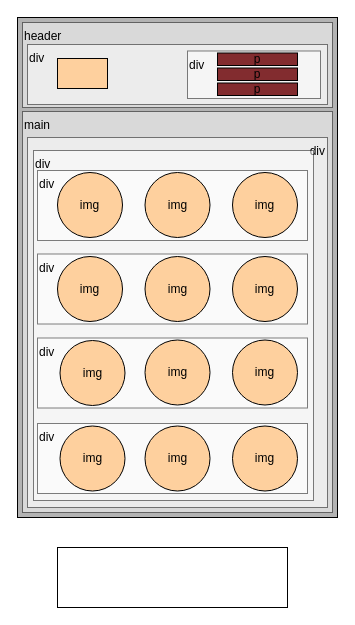
This 355x625 diagram has some shape labels left out. Each missing label, with the centre of its shape:
"button" belongs at point (82, 73).
"Small screen" belongs at point (172, 577).
